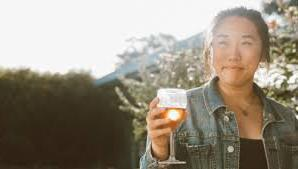Drunk: (214, 20, 258, 83)
